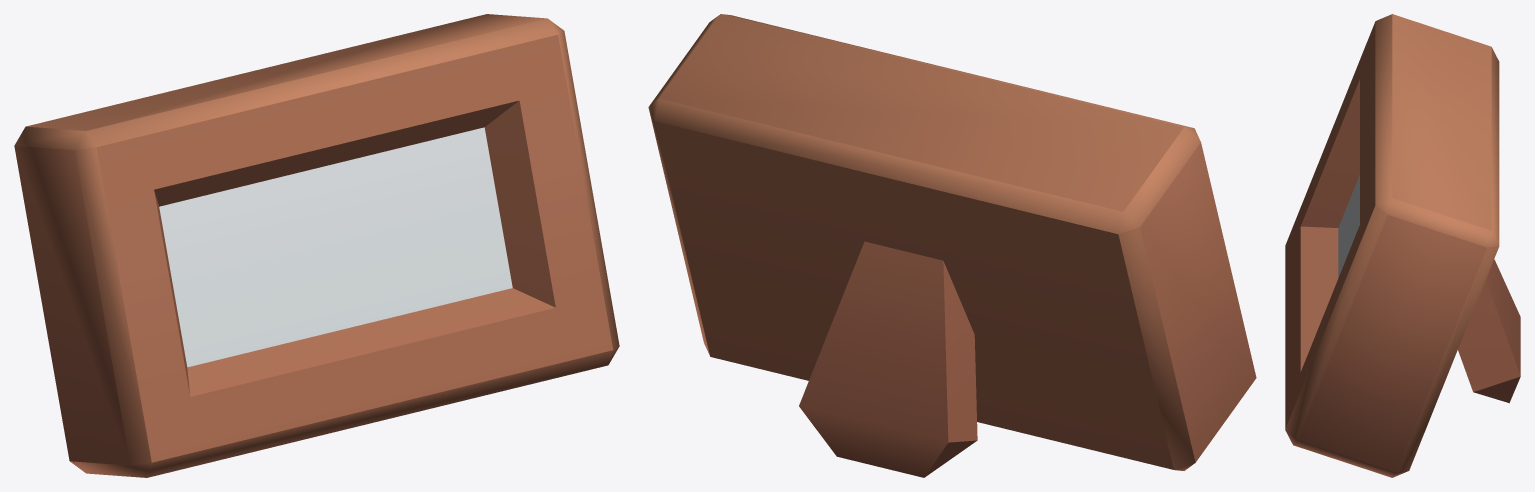
The model's file is kay-quadro-pe.gltf.
The picture shows the model from 3 angles, left to right: view 1: azimuth 30°, elevation 25°; view 2: azimuth 150°, elevation 25°; view 3: azimuth 270°, elevation 25°; orthographic projection. The views are drawn at different scales.
Parts seen in each view (by area): view 1: pictureframe_standing_B; view 2: pictureframe_standing_B; view 3: pictureframe_standing_B.
Boxes of the visible parts, box(x1,y1,x2,y2) form: pictureframe_standing_B: box(14, 14, 619, 477); pictureframe_standing_B: box(648, 14, 1256, 477); pictureframe_standing_B: box(1285, 14, 1520, 477).
Size of the model in its own units: 0.455 by 0.3043 by 0.2321.
1 material, 1 textured.
